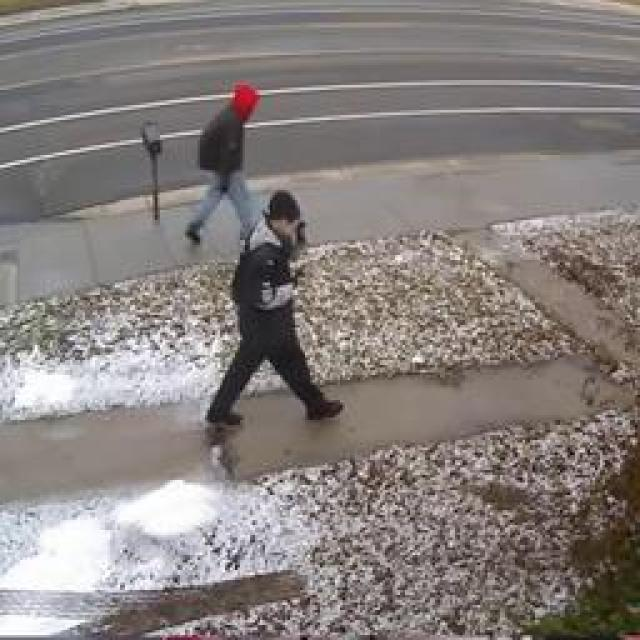person: (200, 180, 365, 440), (168, 65, 278, 257)
